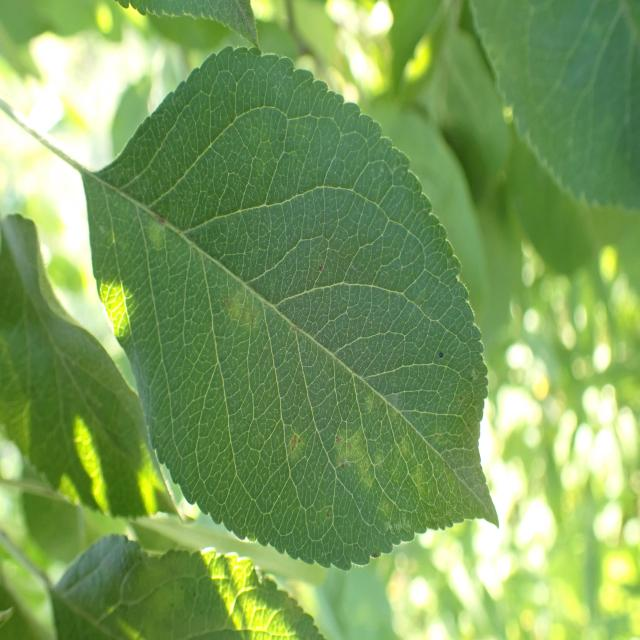scab: (132, 138, 466, 555)
